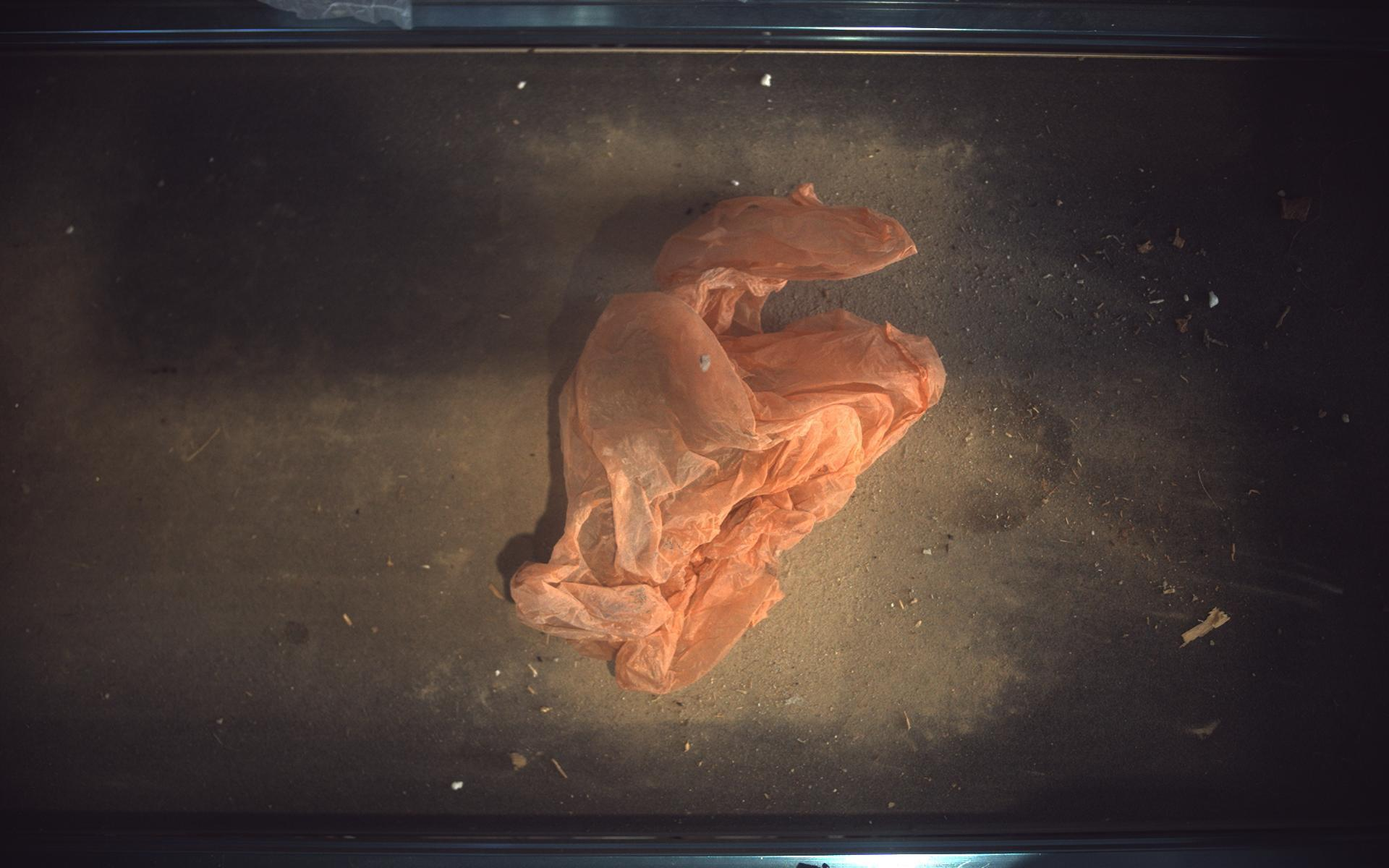general_w: (511, 183, 947, 695)
